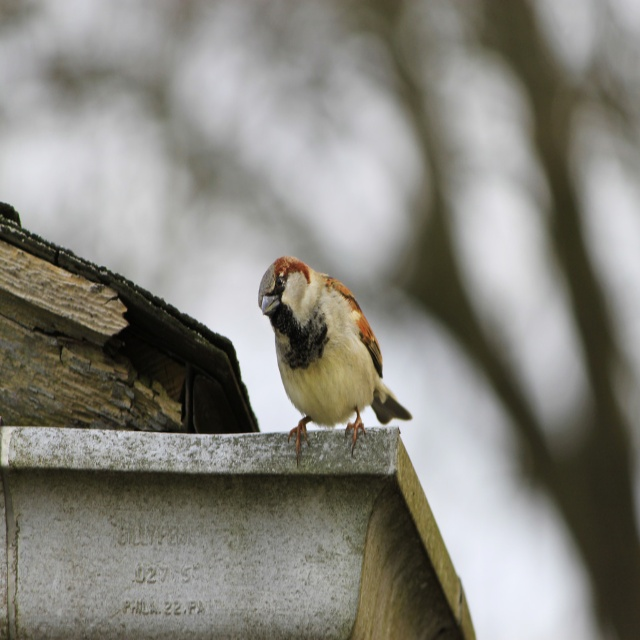Sparrow: (258, 256, 413, 458)
